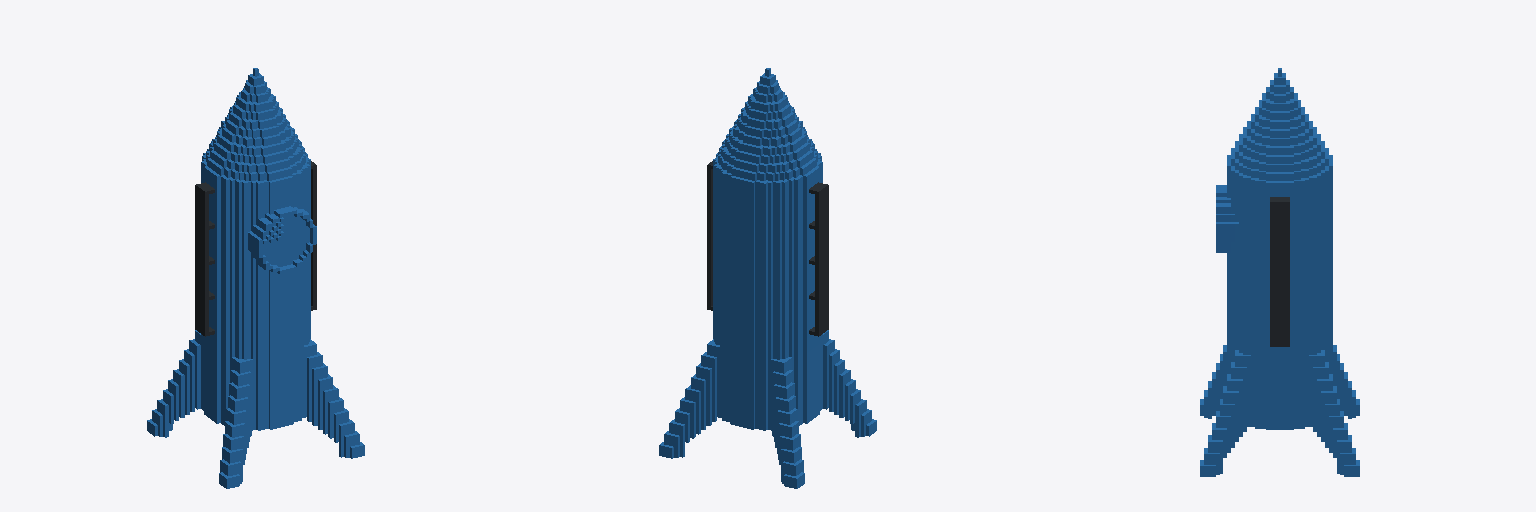
3 renders of one model, left to right at view 1: azimuth 30°, elevation 25°; view 2: azimuth 150°, elevation 25°; view 3: azimuth 270°, elevation 25°, orthographic.
Parts seen in each view (by area): view 1: object 1; view 2: object 1; view 3: object 1.
Boxes of the visible parts, <box> form: object 1: <box>147,68,364,488</box>; object 1: <box>659,68,876,488</box>; object 1: <box>1200,68,1359,476</box>.
Size of the model in its own units: 4.1 by 10.6 by 4.1.
Materials: 1 (1 with a texture image).